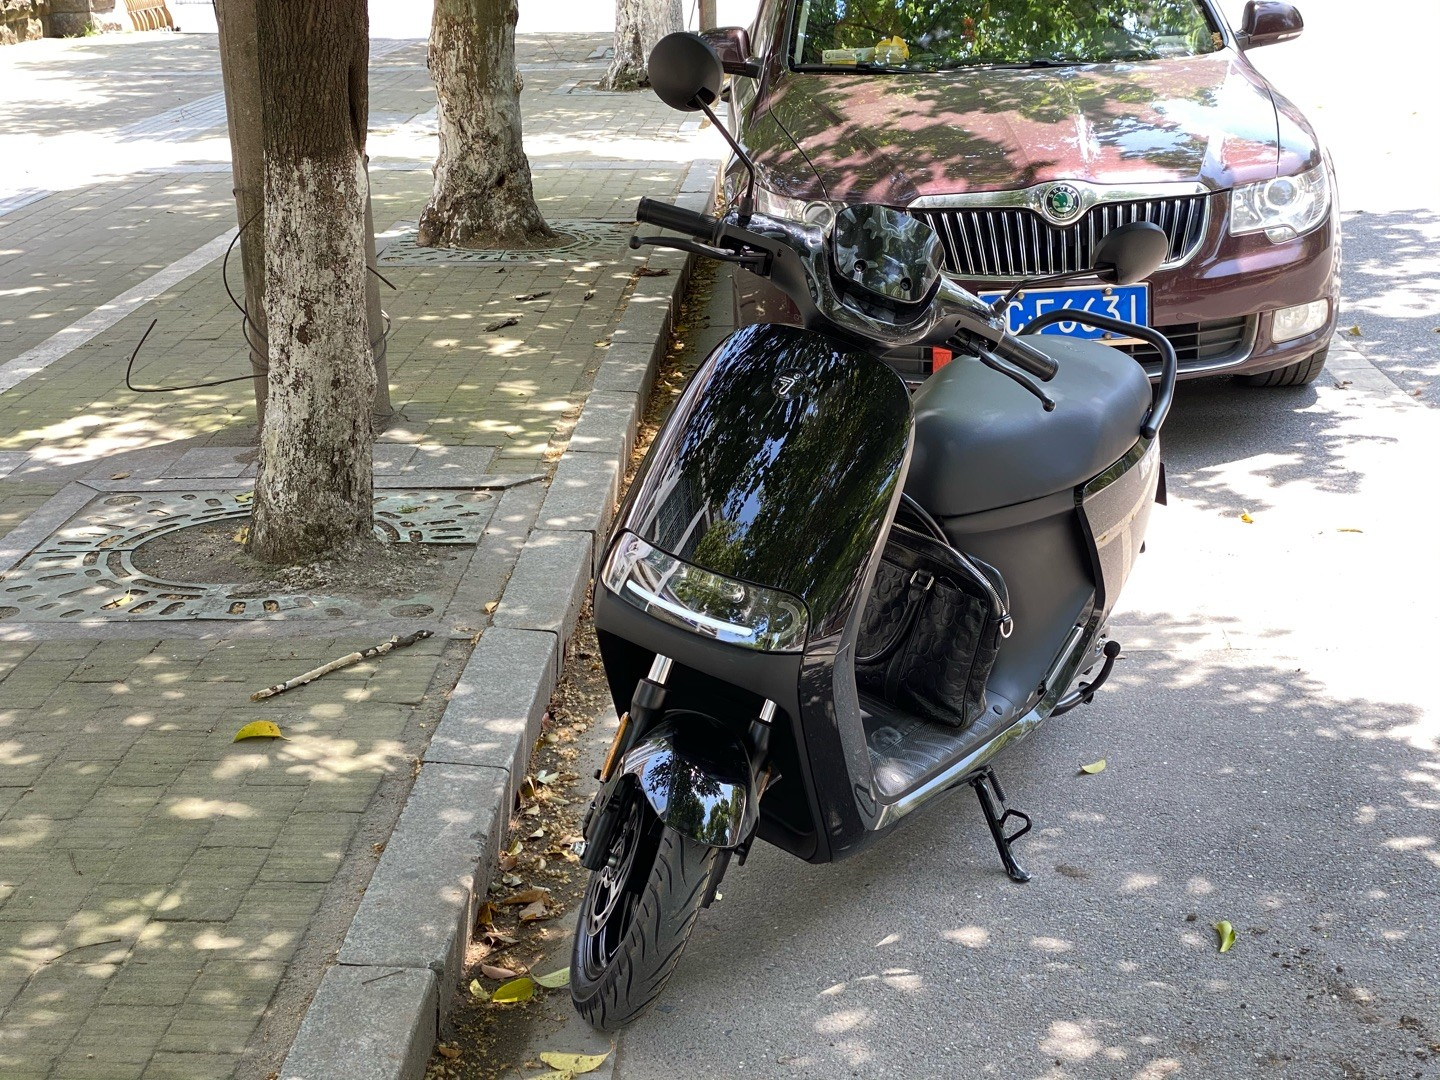MNV: (573, 200, 1171, 1030)
